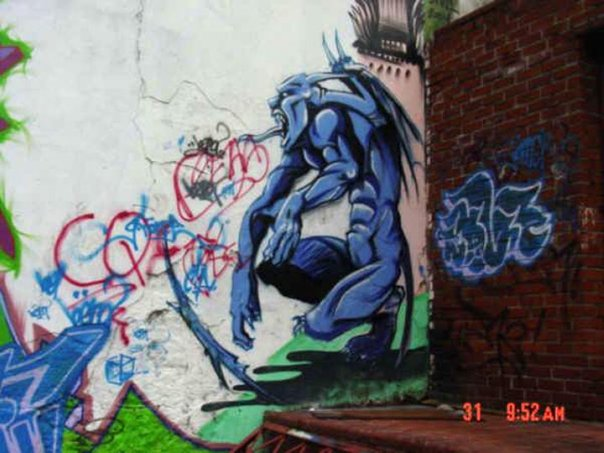graffity: (150, 27, 430, 412), (1, 311, 151, 453), (48, 207, 241, 316), (432, 166, 561, 292), (1, 20, 45, 275), (172, 127, 271, 227), (342, 1, 433, 80)
